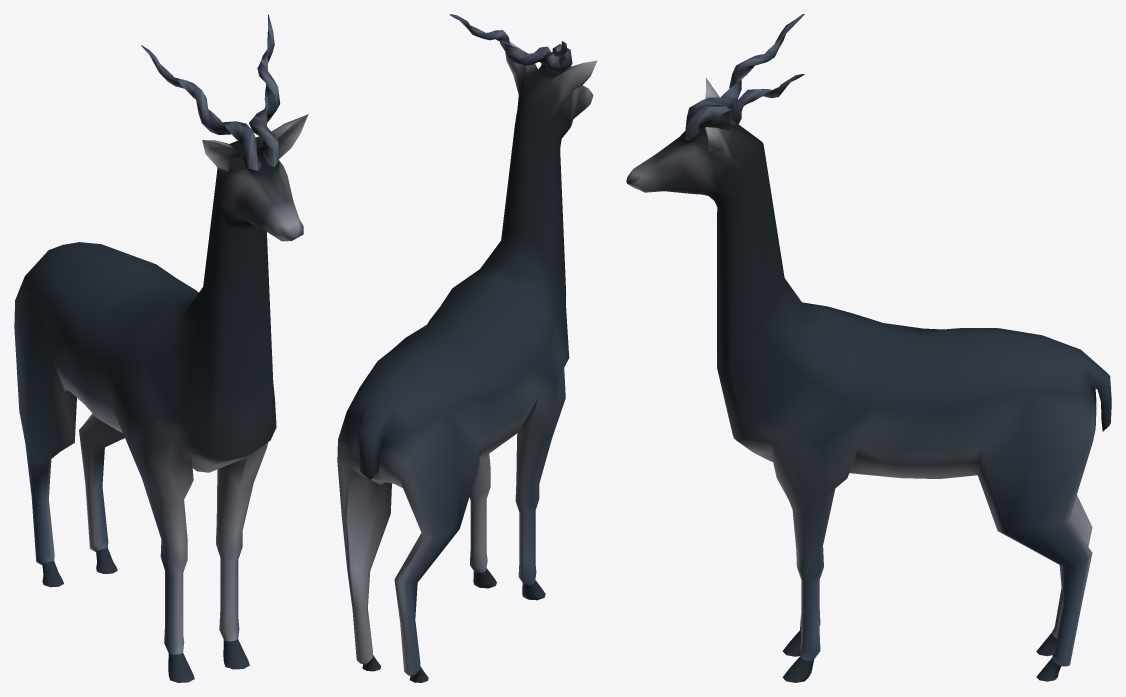
The picture shows the model from 3 angles, left to right: view 1: azimuth 30°, elevation 25°; view 2: azimuth 150°, elevation 25°; view 3: azimuth 270°, elevation 25°; orthographic projection. The views are drawn at different scales.
Parts seen in each view (by area): view 1: base.142; view 2: base.142; view 3: base.142.
Part boxes in pixels (x1,y1,x2,y2): base.142: (14,14,308,682); base.142: (337,14,597,682); base.142: (626,14,1111,682).
Size of the model in its own units: 0.1119 by 0.5 by 0.3548.
